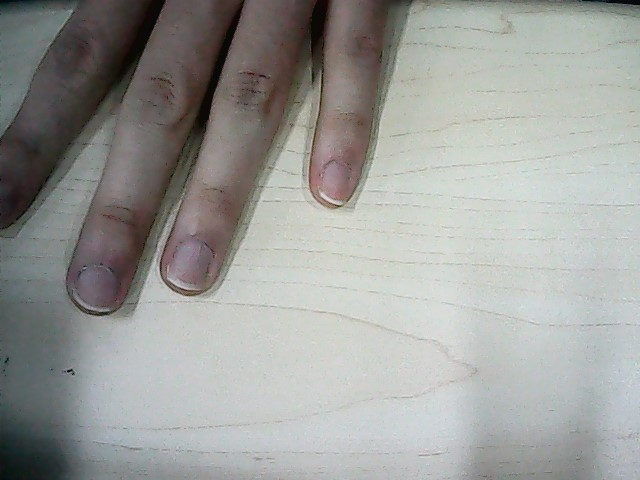nail: (166, 237, 213, 293), (74, 263, 118, 316), (315, 158, 351, 204)
